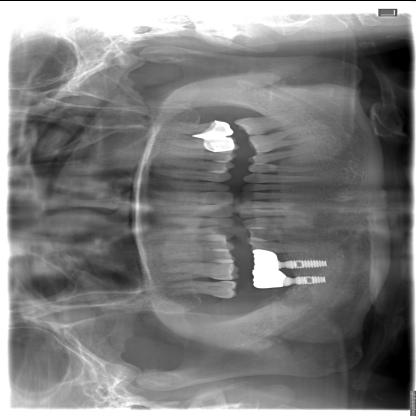Bicon: (289, 272, 329, 292), (287, 254, 331, 272)
